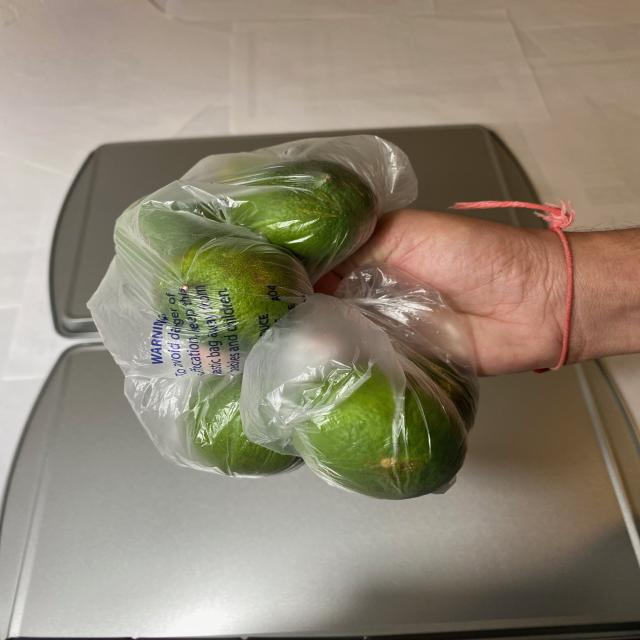lemon: (111, 157, 485, 503)
